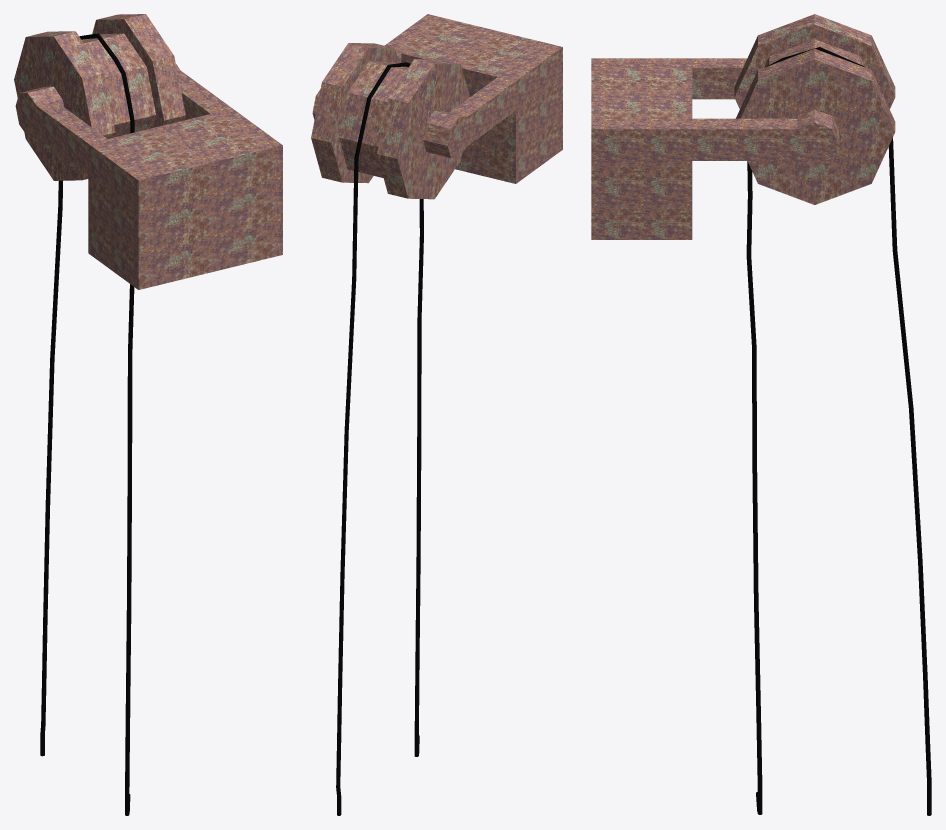
Rendered from LIFT_HOLDER_.fbx.
3 renders of one model, left to right at view 1: azimuth 30°, elevation 25°; view 2: azimuth 150°, elevation 25°; view 3: azimuth 270°, elevation 25°, orthographic. The views are drawn at different scales.
Parts seen in each view (by area): view 1: LIFT_HOLDER, LIFT_HOLDER1, WIRE; view 2: LIFT_HOLDER, LIFT_HOLDER1, WIRE; view 3: LIFT_HOLDER, LIFT_HOLDER1, WIRE.
Part boxes in pixels (x1=…): LIFT_HOLDER: x1=15, y1=63, x2=282, y2=289; LIFT_HOLDER1: x1=14, y1=14, x2=185, y2=180; WIRE: x1=40, y1=33, x2=134, y2=815; LIFT_HOLDER: x1=312, y1=14, x2=562, y2=183; LIFT_HOLDER1: x1=311, y1=43, x2=469, y2=199; WIRE: x1=336, y1=62, x2=423, y2=815; LIFT_HOLDER: x1=591, y1=58, x2=839, y2=239; LIFT_HOLDER1: x1=734, y1=14, x2=895, y2=204; WIRE: x1=746, y1=47, x2=931, y2=815.
Size of the model in its own units: 108 by 551 by 218.
Materials: 2 (1 with a texture image).
